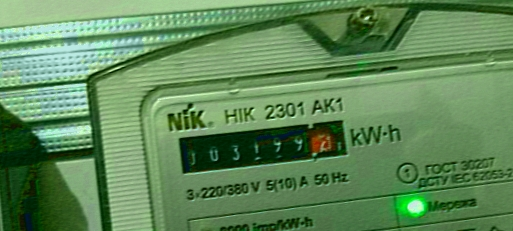0: (183, 146, 198, 168), (206, 142, 221, 164)
1: (249, 136, 262, 156)
3: (228, 142, 242, 163)
6: (317, 138, 330, 155)
9: (270, 134, 284, 155), (291, 133, 305, 153)
screen: (170, 108, 358, 189)
